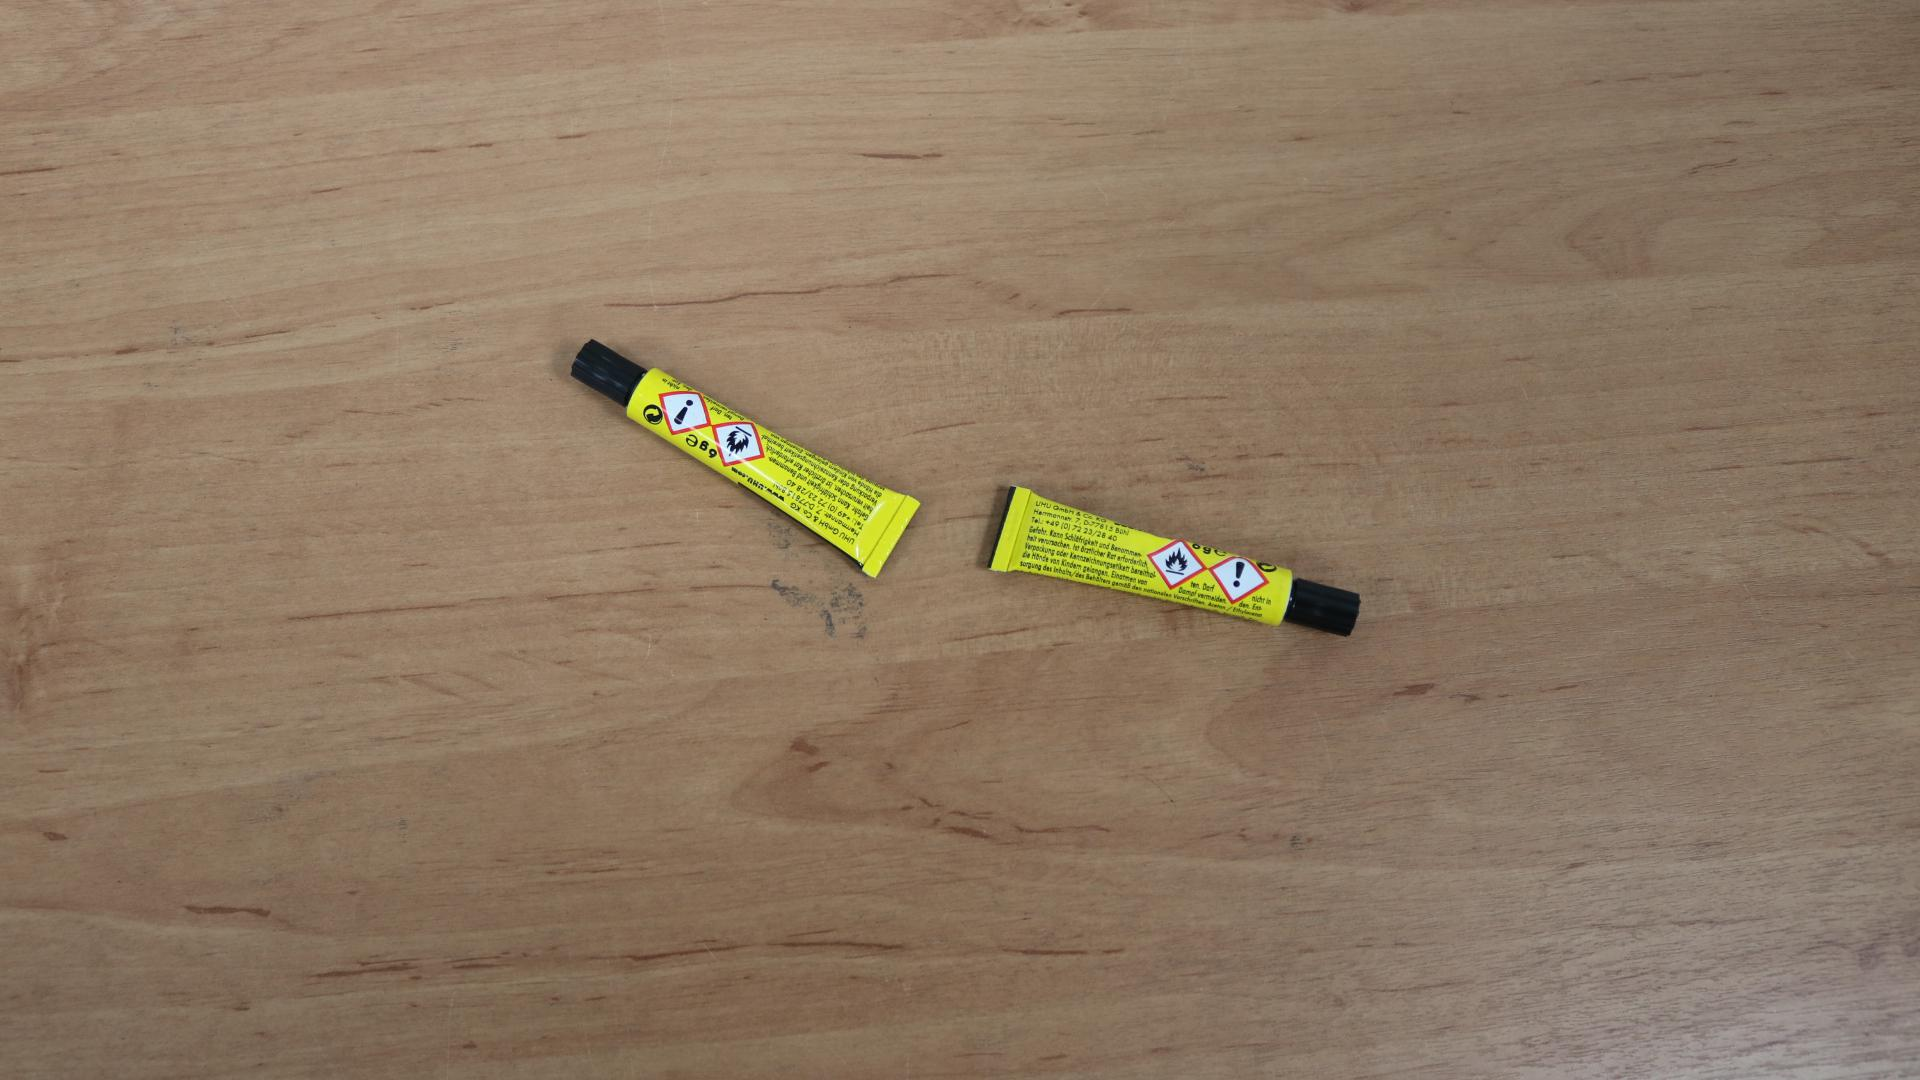Head: (606, 369, 610, 373), (1322, 603, 1326, 607)
Tail: (1007, 529, 1011, 533), (888, 536, 892, 540)
Tube: (569, 339, 922, 579), (987, 485, 1360, 637)
